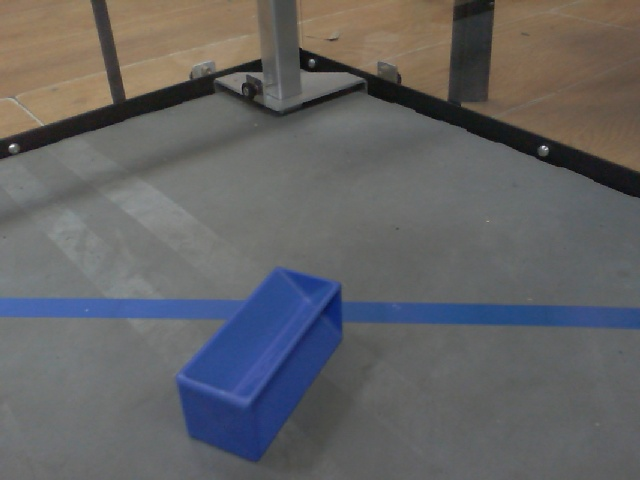BlueSample: (172, 262, 346, 470)
